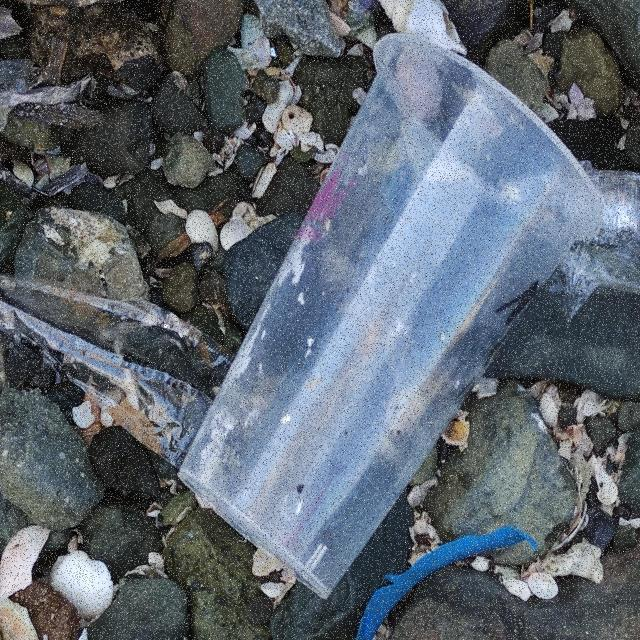plastic_waste: (178, 33, 605, 603)
